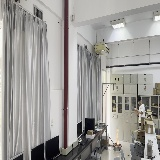fire: (114, 128, 119, 145)
